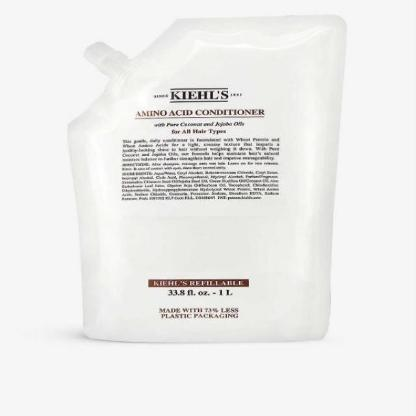Plastic Packaging: (67, 14, 349, 346)
